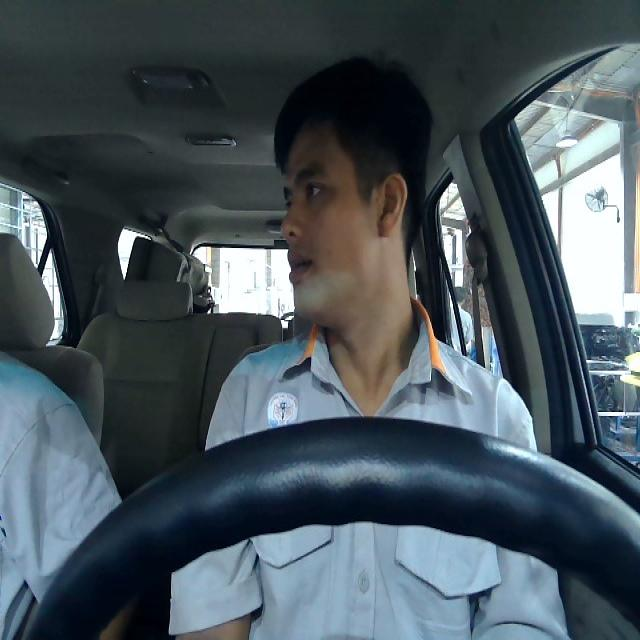yarning: (277, 115, 410, 325)
